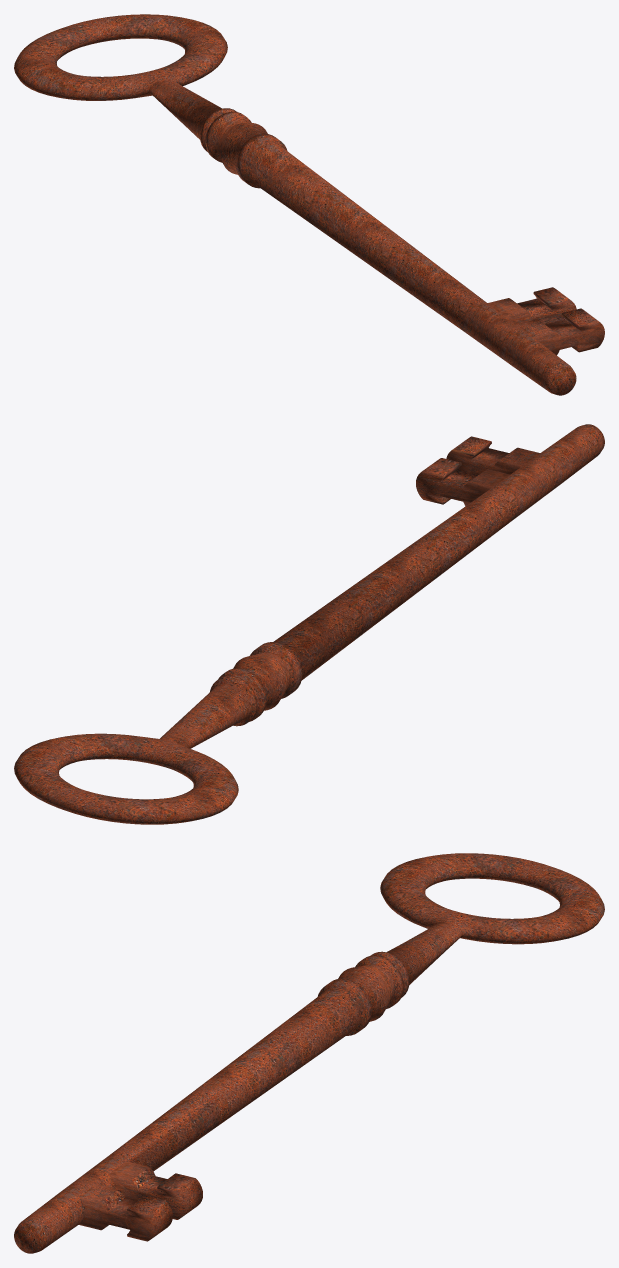
Rendered from chave.fbx.
The picture shows the model from 3 angles, top to bottom: view 1: azimuth 30°, elevation 25°; view 2: azimuth 150°, elevation 25°; view 3: azimuth 330°, elevation 25°; orthographic projection. The views are drawn at different scales.
Visible parts, largest first — view 1: chave; view 2: chave; view 3: chave.
Part boxes in pixels (x1,y1,x2,y2): chave: (14,14,604,395); chave: (14,424,604,824); chave: (14,853,604,1253).
Bounding box in the file's own units: 144 × 35.33 × 613.
